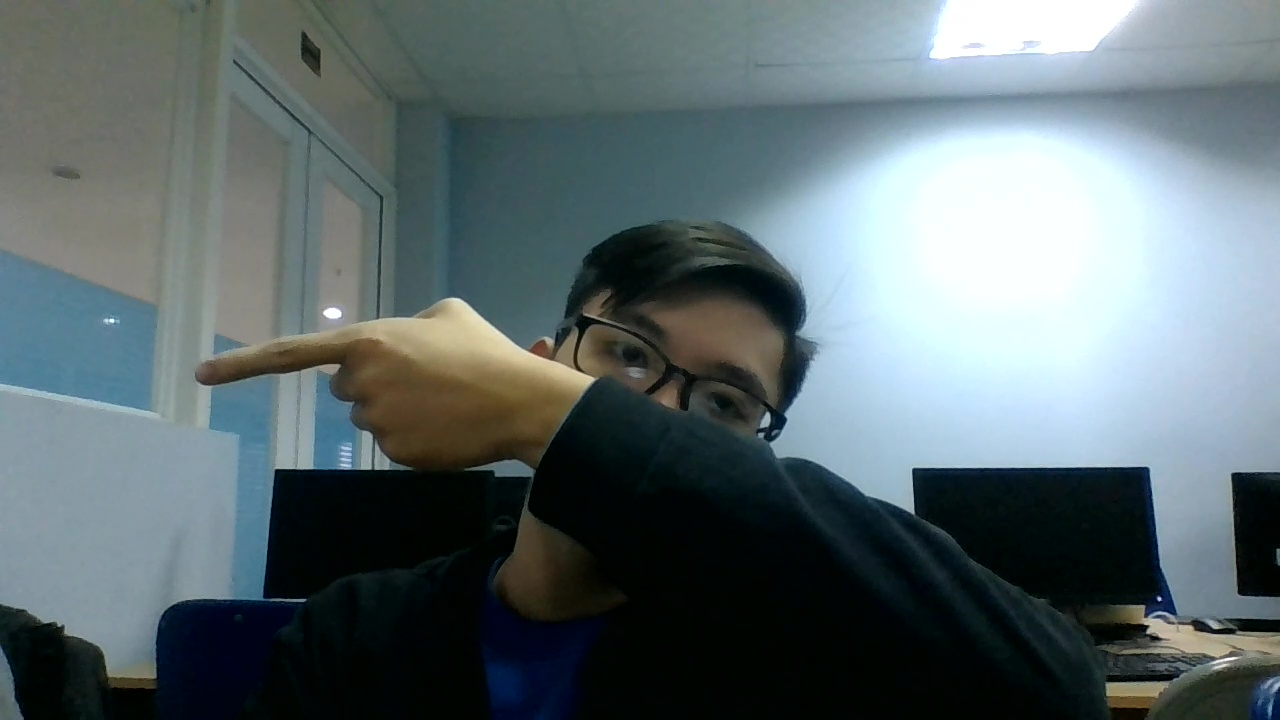right: (196, 296, 522, 486)
